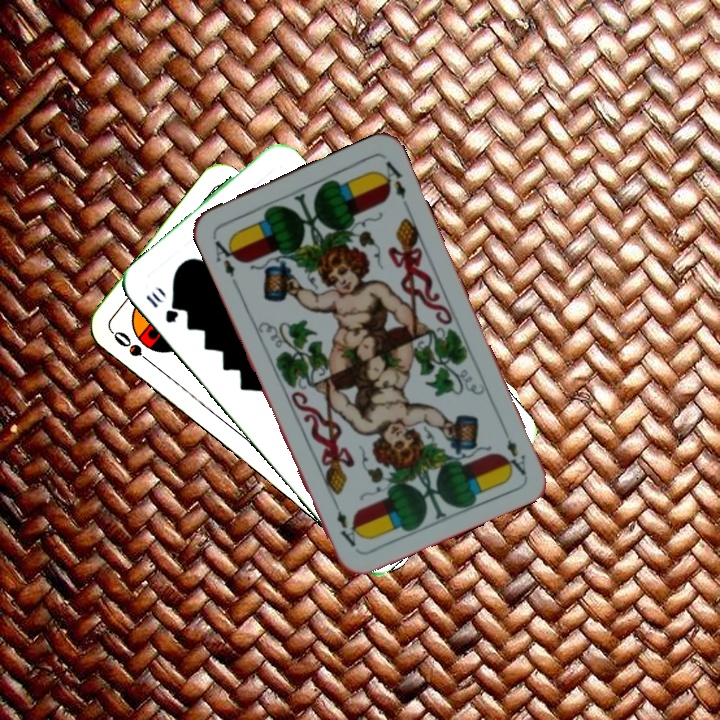EA: (498, 421, 529, 478), (208, 231, 242, 280)
G10: (141, 288, 182, 326)
SO: (108, 326, 158, 369)
